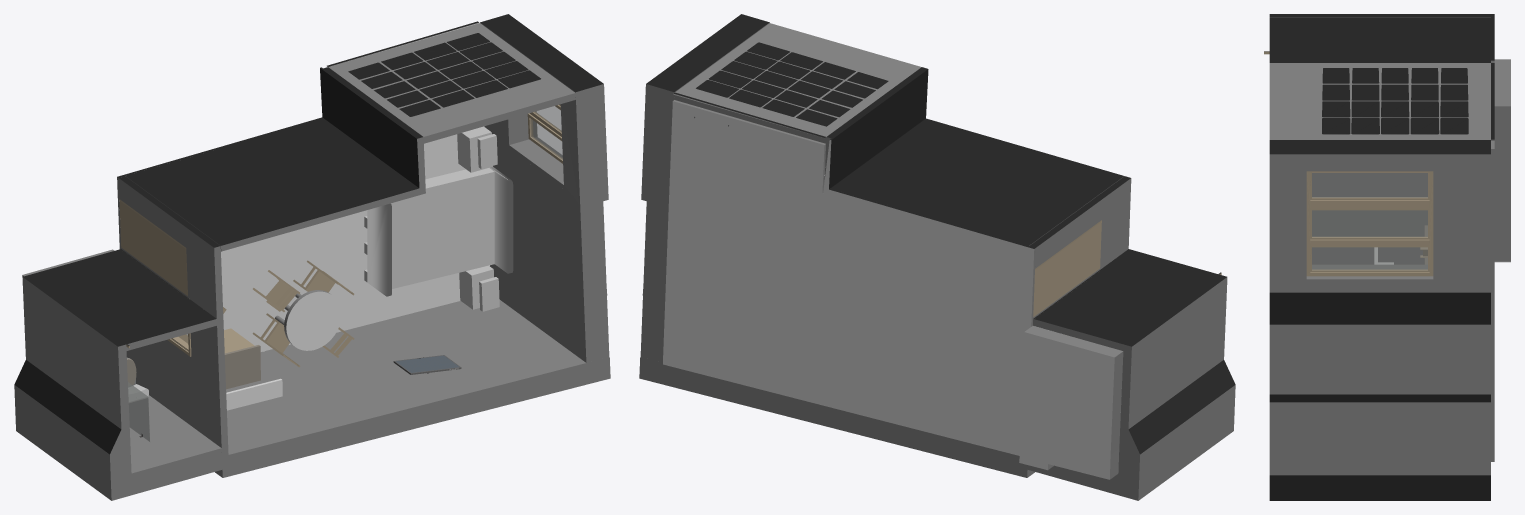
The model's file is APARTAMENT1.obj.
3 renders of one model, left to right at view 1: azimuth 30°, elevation 25°; view 2: azimuth 150°, elevation 25°; view 3: azimuth 270°, elevation 25°, orthographic. The views are drawn at different scales.
Parts seen in each view (by area): view 1: A-EF_25_10_WALLSEXTERNAL PAINT_-_LIGHT_GRAY, A-EF_25_10_WALLSEXTERNAL PAINT-ANTHRACITE, A-EF_30_20_FLOORS PAINT_-_TITANIUM_WHITE, A-EF_40_15_75_SANITARYAPPLIANCE SURF-GLOSSY_WHITE FLAT_PART, A-EF_40_15_75_SANITARYAPPLIANCE PAINT-ANTHRACITE, A-EF_25_10_WALLSEXTERNAL WOOD_-_PINE_GRAINED_HORIZONTAL, A-EF_40_15_75_SANITARYAPPLIANCE SURF-GLOSSY_WHITE SMOOTH_PART, A-EF_40_15_75_SANITARYAPPLIANCE WOOD_-_PINE_GRAINED_HORIZONTAL, A-EF_40_15_75_SANITARYAPPLIANCE SURF_-_PLASTIC_LAMINATE FLAT_PAR, A-EF_25_10_WALLSEXTERNAL GLASS_-_CLEAR_FAST, A-EF_40_15_75_SANITARYAPPLIANCE GLASS_-_CLEAR_FAST, A-EF_30_20_FLOORS PAINT-ANTHRACITE (+2 smaller); view 2: A-EF_30_20_FLOORS PAINT_-_TITANIUM_WHITE, A-EF_25_10_WALLSEXTERNAL PAINT_-_LIGHT_GRAY, A-EF_25_10_WALLSEXTERNAL PAINT-ANTHRACITE, A-EF_40_15_75_SANITARYAPPLIANCE PAINT-ANTHRACITE, A-EF_25_10_WALLSEXTERNAL WOOD_-_PINE_GRAINED_HORIZONTAL, A-EF_30_20_FLOORS PAINT_-_LIGHT_GRAY FLAT_PART, A-EF_30_20_FLOORS PAINT-ANTHRACITE; view 3: A-EF_25_10_WALLSEXTERNAL PAINT_-_LIGHT_GRAY, A-EF_25_10_WALLSEXTERNAL PAINT-ANTHRACITE, A-EF_40_15_75_SANITARYAPPLIANCE PAINT-ANTHRACITE, A-EF_25_10_WALLSEXTERNAL GLASS_-_CLEAR_FAST, A-EF_25_10_WALLSEXTERNAL WOOD_-_PINE_GRAINED_HORIZONTAL, A-EF_30_20_FLOORS PAINT_-_LIGHT_GRAY FLAT_PART, A-EF_30_20_FLOORS PAINT-ANTHRACITE.
Part boxes in pixels (box(x1,y1,x2,y2)): A-EF_25_10_WALLSEXTERNAL PAINT_-_LIGHT_GRAY: box(14, 22, 610, 500); A-EF_25_10_WALLSEXTERNAL PAINT-ANTHRACITE: box(14, 14, 603, 454); A-EF_30_20_FLOORS PAINT_-_TITANIUM_WHITE: box(119, 22, 478, 410); A-EF_40_15_75_SANITARYAPPLIANCE SURF-GLOSSY_WHITE FLAT_PART: box(364, 126, 499, 311); A-EF_40_15_75_SANITARYAPPLIANCE PAINT-ANTHRACITE: box(348, 33, 540, 358); A-EF_25_10_WALLSEXTERNAL WOOD_-_PINE_GRAINED_HORIZONTAL: box(119, 104, 562, 356); A-EF_40_15_75_SANITARYAPPLIANCE SURF-GLOSSY_WHITE SMOOTH_PART: box(367, 42, 539, 296); A-EF_40_15_75_SANITARYAPPLIANCE WOOD_-_PINE_GRAINED_HORIZONTAL: box(224, 260, 354, 367); A-EF_40_15_75_SANITARYAPPLIANCE SURF_-_PLASTIC_LAMINATE FLAT_PAR: box(127, 345, 260, 389); A-EF_25_10_WALLSEXTERNAL GLASS_-_CLEAR_FAST: box(186, 106, 562, 335); A-EF_40_15_75_SANITARYAPPLIANCE GLASS_-_CLEAR_FAST: box(128, 382, 149, 441); A-EF_30_20_FLOORS PAINT-ANTHRACITE: box(117, 21, 478, 177); A-EF_30_20_FLOORS PAINT_-_TITANIUM_WHITE: box(663, 93, 1114, 479); A-EF_25_10_WALLSEXTERNAL PAINT_-_LIGHT_GRAY: box(639, 22, 1235, 500); A-EF_25_10_WALLSEXTERNAL PAINT-ANTHRACITE: box(646, 14, 1235, 454); A-EF_40_15_75_SANITARYAPPLIANCE PAINT-ANTHRACITE: box(696, 42, 888, 126); A-EF_25_10_WALLSEXTERNAL WOOD_-_PINE_GRAINED_HORIZONTAL: box(1033, 220, 1221, 316); A-EF_30_20_FLOORS PAINT_-_LIGHT_GRAY FLAT_PART: box(673, 100, 1123, 479); A-EF_30_20_FLOORS PAINT-ANTHRACITE: box(674, 92, 1035, 248); A-EF_25_10_WALLSEXTERNAL PAINT_-_LIGHT_GRAY: box(1269, 17, 1490, 475); A-EF_25_10_WALLSEXTERNAL PAINT-ANTHRACITE: box(1264, 14, 1490, 500); A-EF_40_15_75_SANITARYAPPLIANCE PAINT-ANTHRACITE: box(1322, 68, 1468, 134); A-EF_25_10_WALLSEXTERNAL GLASS_-_CLEAR_FAST: box(1312, 173, 1427, 270); A-EF_25_10_WALLSEXTERNAL WOOD_-_PINE_GRAINED_HORIZONTAL: box(1264, 51, 1433, 276); A-EF_30_20_FLOORS PAINT_-_LIGHT_GRAY FLAT_PART: box(1491, 59, 1510, 461); A-EF_30_20_FLOORS PAINT-ANTHRACITE: box(1491, 14, 1494, 139).
Size of the model in its own units: 9080 by 5218 by 3349.
